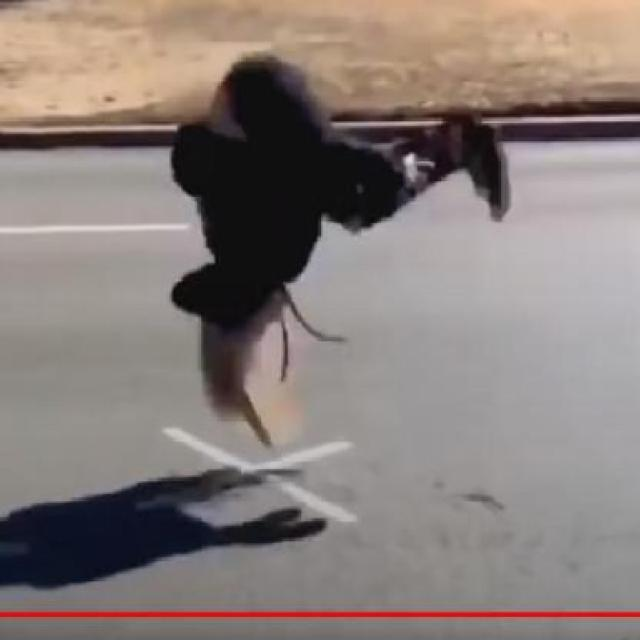fall: (161, 46, 514, 432)
